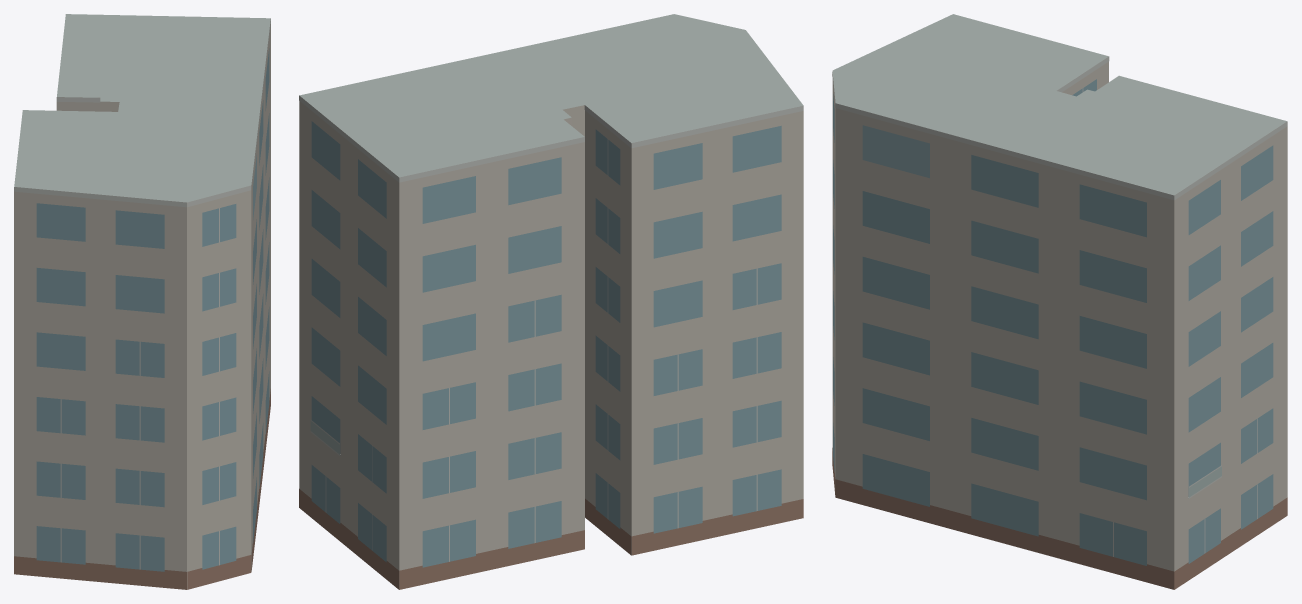
File: survey-upis-32523035.glb
3 renders of one model, left to right at view 1: azimuth 30°, elevation 25°; view 2: azimuth 150°, elevation 25°; view 3: azimuth 270°, elevation 25°, orthographic. The views are drawn at different scales.
Visible parts, largest first — view 1: survey-upis-32523035.tmp; view 2: survey-upis-32523035.tmp; view 3: survey-upis-32523035.tmp.
Part boxes in pixels (bbox=[...]): survey-upis-32523035.tmp: bbox=[14, 14, 270, 589]; survey-upis-32523035.tmp: bbox=[299, 14, 803, 589]; survey-upis-32523035.tmp: bbox=[832, 14, 1287, 589].
Size of the model in its own units: 19.35 by 19.6 by 20.5.
